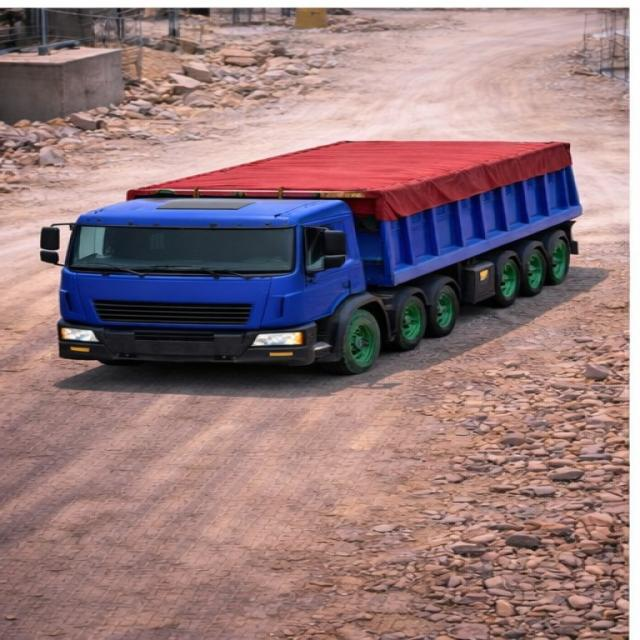Box: (124, 138, 570, 196)
Truck: (34, 130, 607, 368)
